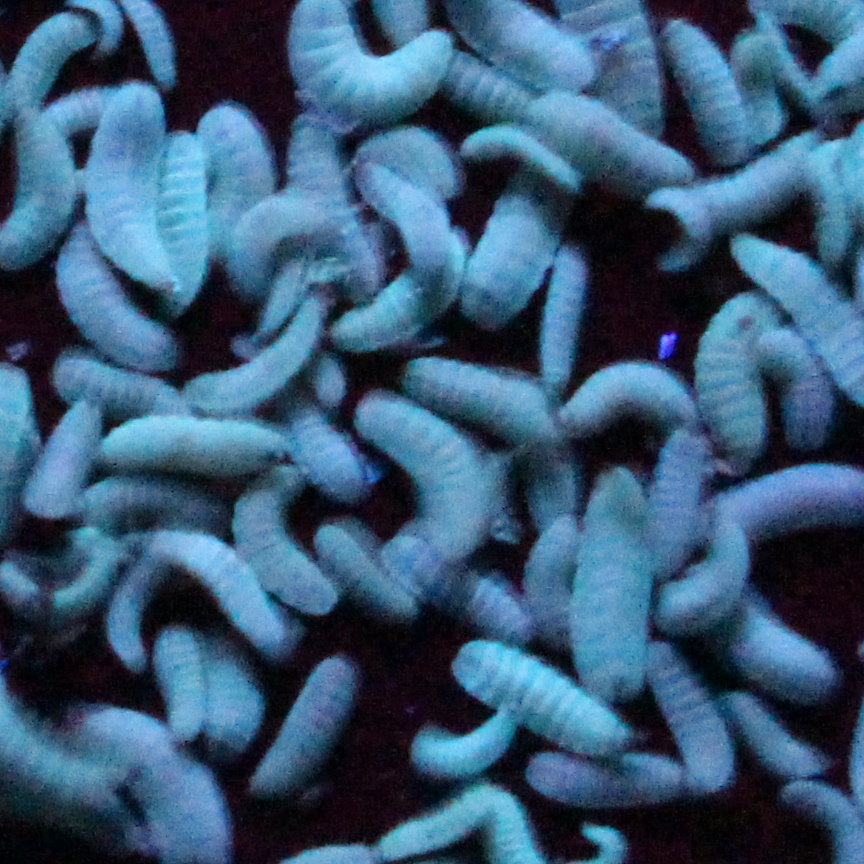larve: (365, 392, 497, 557), (637, 149, 817, 269), (90, 87, 187, 299), (57, 212, 182, 369), (577, 474, 665, 697), (542, 337, 720, 444), (460, 647, 630, 759), (150, 532, 295, 662), (180, 304, 337, 419), (460, 162, 565, 322), (320, 244, 457, 359), (657, 19, 762, 167), (690, 297, 792, 442), (225, 479, 330, 612), (645, 514, 757, 637), (727, 572, 837, 697), (210, 182, 332, 289), (362, 777, 525, 857), (745, 324, 845, 452), (202, 102, 277, 272), (360, 169, 472, 277), (92, 417, 302, 474), (260, 659, 357, 782), (50, 352, 202, 429), (345, 132, 472, 224), (312, 522, 420, 627), (145, 139, 222, 272), (412, 707, 525, 784), (147, 602, 210, 739), (27, 402, 97, 519), (657, 654, 725, 774), (535, 512, 595, 647), (285, 124, 352, 239), (537, 739, 635, 817), (65, 512, 137, 609), (450, 572, 535, 652), (12, 19, 92, 97), (215, 662, 252, 739)
